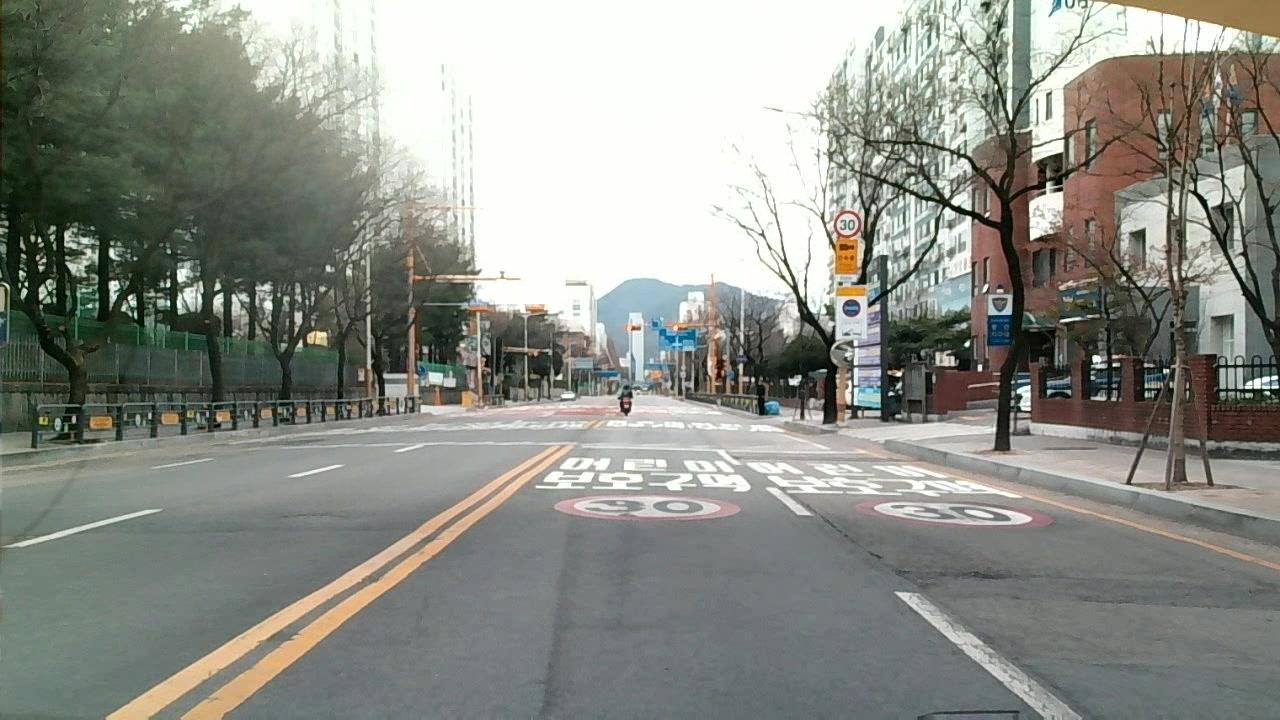banner: (908, 586, 1083, 702), (776, 486, 885, 559)
